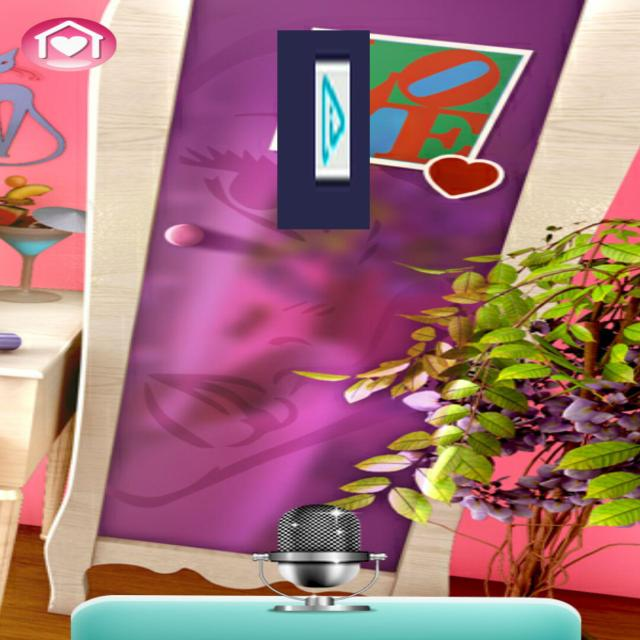sneaking: (277, 31, 370, 230)
